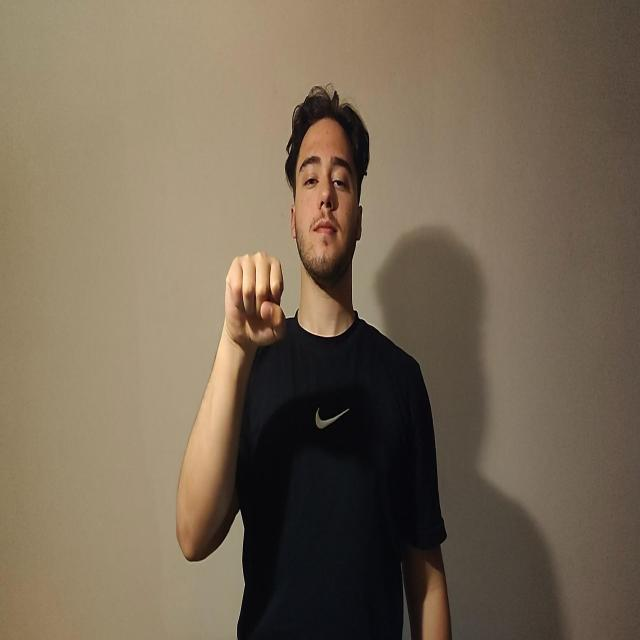yes: (224, 250, 287, 354)
